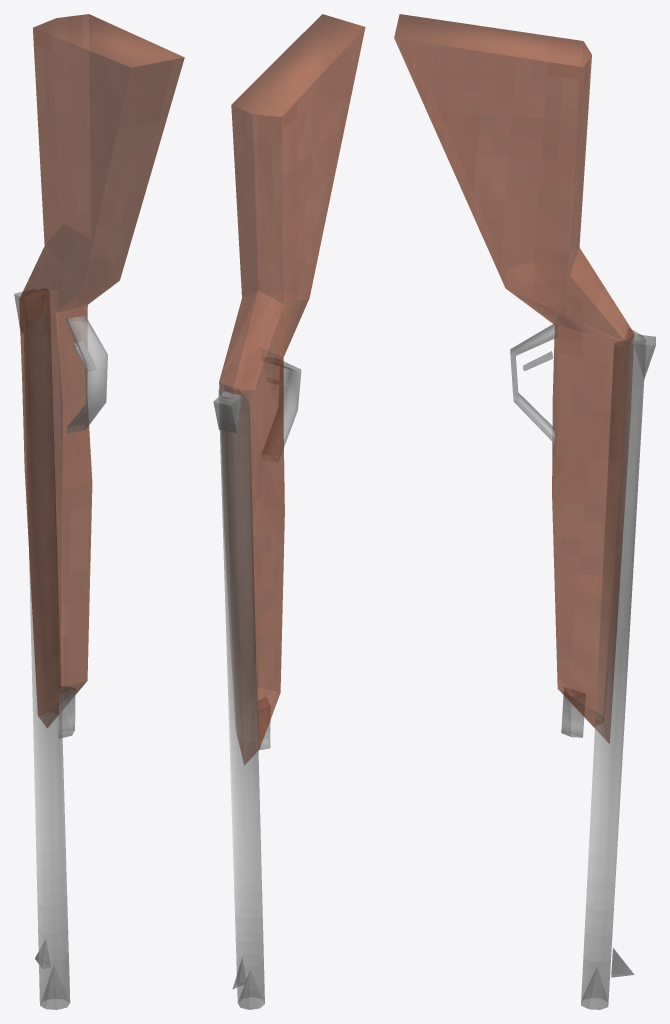
The picture shows the model from 3 angles, left to right: view 1: azimuth 30°, elevation 25°; view 2: azimuth 150°, elevation 25°; view 3: azimuth 270°, elevation 25°; orthographic projection. The views are drawn at different scales.
Visible parts, largest first — view 1: Musket; view 2: Musket, Hammer; view 3: Musket, Hammer.
Boxes of the visible parts, box(x1,y1,x2,y2) form: Musket: box(19, 14, 184, 1009); Musket: box(218, 14, 365, 1009); Hammer: box(213, 391, 241, 433); Musket: box(394, 14, 646, 1009); Hammer: box(633, 334, 655, 378).
Size of the model in its own units: 0.0943 by 0.3958 by 1.63.
